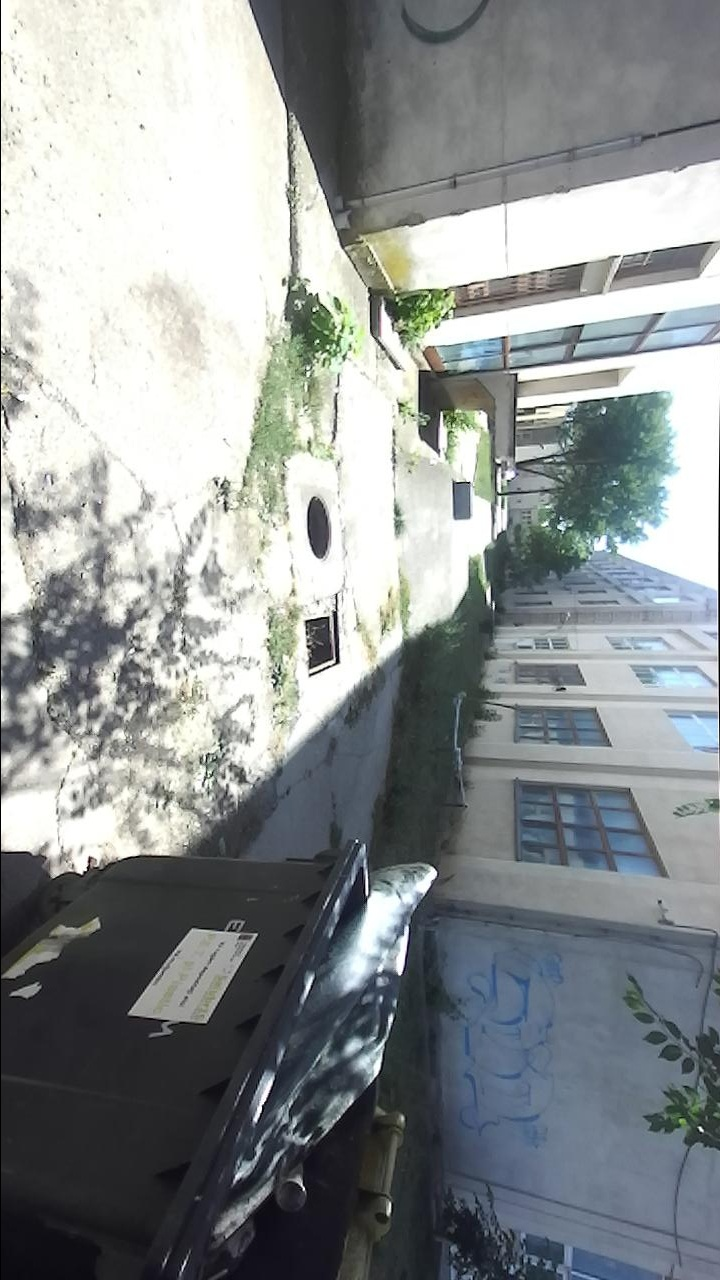drain: (300, 488, 342, 563), (302, 609, 339, 677)
